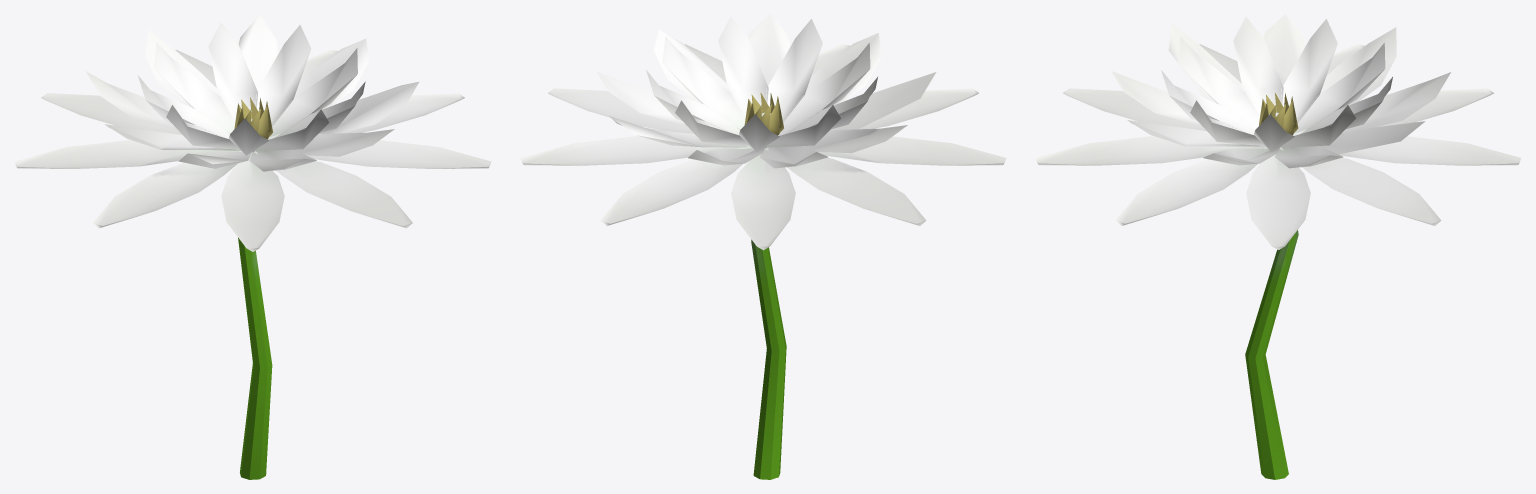
Rendered from Flower 4.fbx.
3 views of the same model, side by side, from view 1: azimuth 30°, elevation 25°; view 2: azimuth 150°, elevation 25°; view 3: azimuth 270°, elevation 25° (orthographic).
Parts seen in each view (by area): view 1: Flower_4; view 2: Flower_4; view 3: Flower_4.
Boxes of the visible parts, x1=… form: Flower_4: x1=14, y1=14, x2=491, y2=479; Flower_4: x1=520, y1=14, x2=1006, y2=479; Flower_4: x1=1035, y1=14, x2=1521, y2=479.
Bounding box in the file's own units: 68.61 × 64.98 × 69.67.
Materials: 1 (1 with a texture image).
